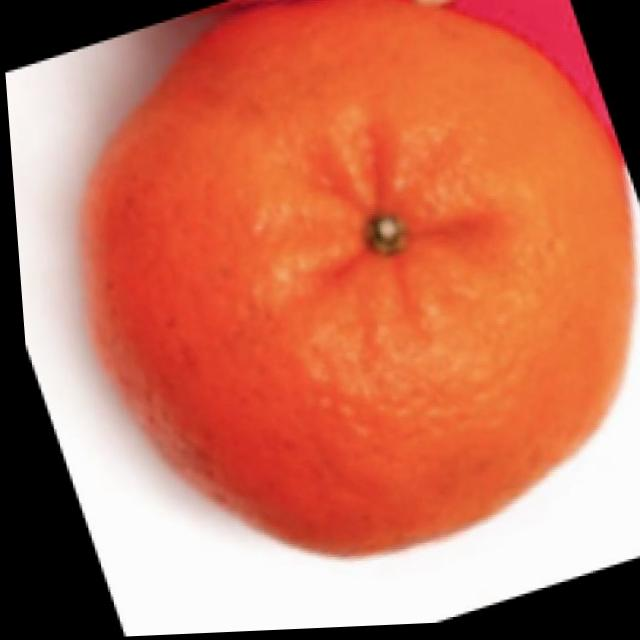Orange: (61, 0, 640, 570)
